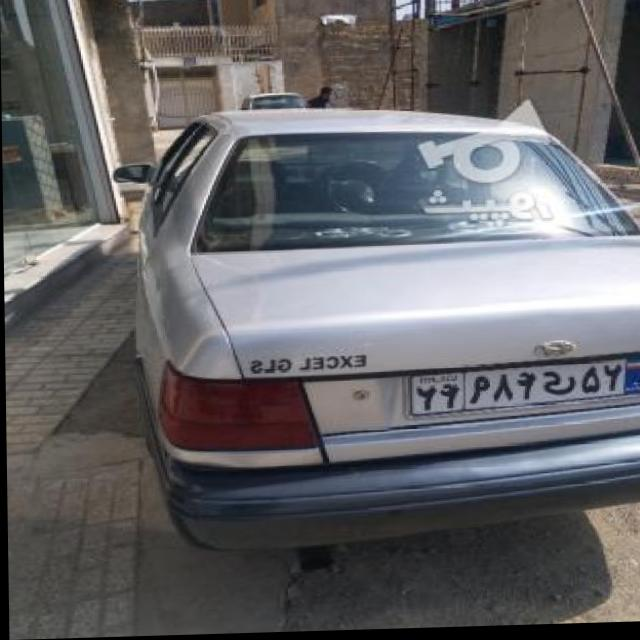licence: (402, 357, 640, 418)
